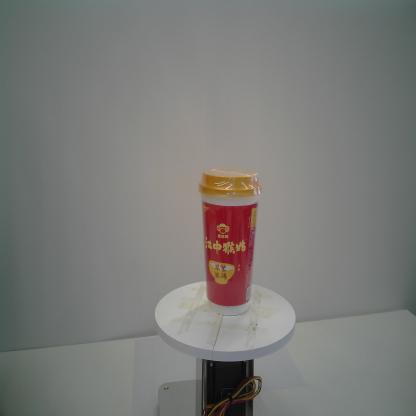Instant Drink: (198, 167, 261, 317)
